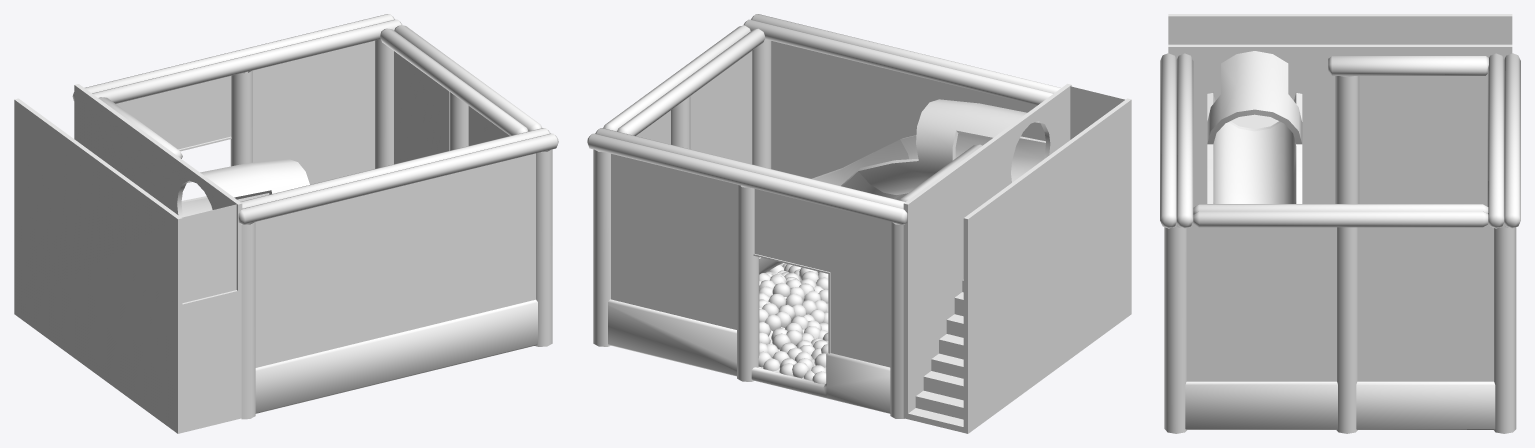
Rendered from ballpitLOD0.glb.
The picture shows the model from 3 angles, left to right: view 1: azimuth 30°, elevation 25°; view 2: azimuth 150°, elevation 25°; view 3: azimuth 270°, elevation 25°; orthographic projection. The views are drawn at different scales.
Visible parts, largest first — view 1: LOD0; view 2: LOD0; view 3: LOD0.
Boxes of the visible parts, <box> form: LOD0: <box>14,14,558,433</box>; LOD0: <box>587,14,1131,433</box>; LOD0: <box>1160,14,1520,433</box>.
Bounding box in the file's own units: 4.32 × 2.34 × 3.38.
Materials: 3 (1 with a texture image).
